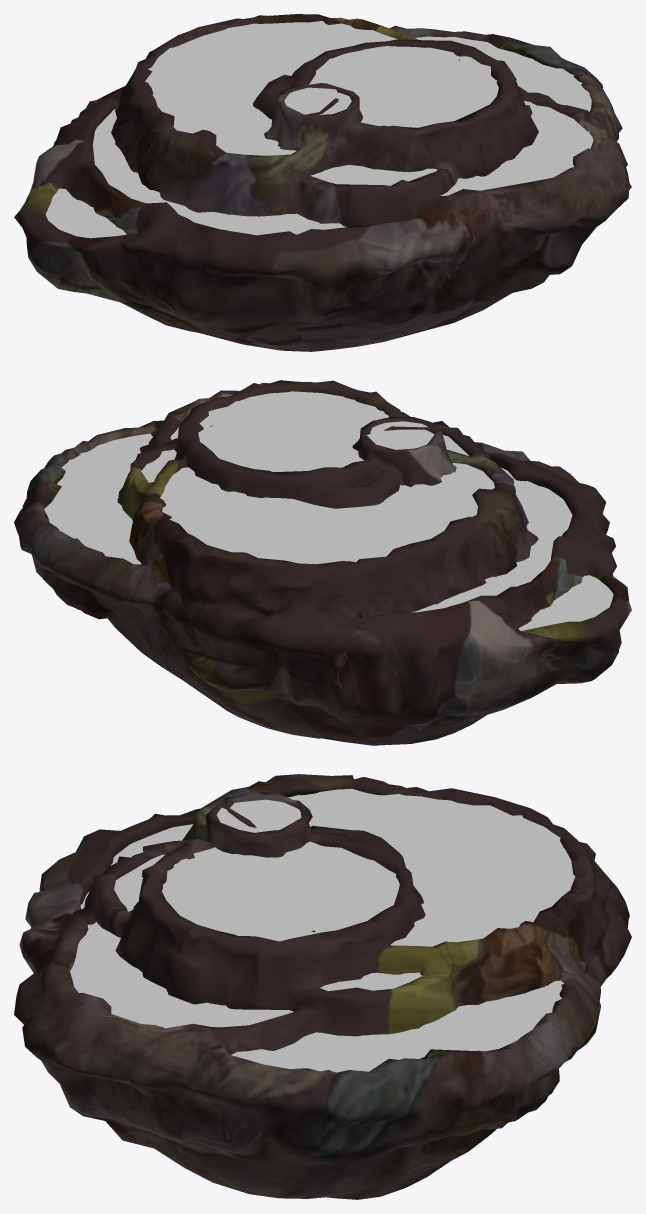
The model's file is hotspringhero.fbx.
3 renders of one model, top to bottom at view 1: azimuth 30°, elevation 25°; view 2: azimuth 150°, elevation 25°; view 3: azimuth 270°, elevation 25°, orthographic. The views are drawn at different scales.
Visible parts, largest first — view 1: Group18525, Mesh; view 2: Group18525, Mesh; view 3: Group18525, Mesh.
Boxes of the visible parts, x1,y1,x2,y2 form: Group18525: [14, 14, 631, 351]; Mesh: [45, 21, 593, 238]; Group18525: [14, 380, 631, 745]; Mesh: [44, 391, 613, 630]; Group18525: [14, 774, 631, 1199]; Mesh: [70, 788, 575, 1072].
Bounding box in the file's own units: 931 × 431 × 714.
